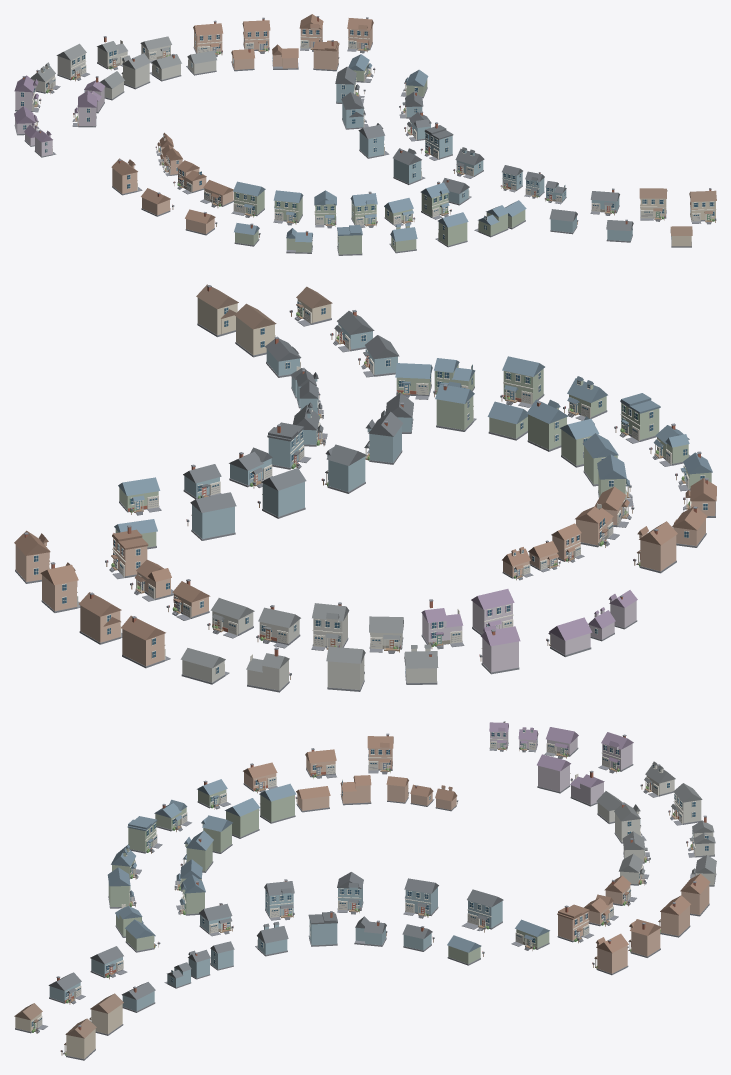
Rendered from willow-hills.glb.
3 renders of one model, top to bottom at view 1: azimuth 30°, elevation 25°; view 2: azimuth 150°, elevation 25°; view 3: azimuth 270°, elevation 25°, orthographic. The views are drawn at different scales.
Parts seen in each view (by area): view 1: suburban_44_double_garage.002, suburban_42_side_garage_two.002, suburban_65_garage_colonial.003, suburban_14_double_garage.001, suburban_23_suburban_farmhouse.001, suburban_34_center_colonial.002, suburban_35_garage_colonial.002, suburban_24_modern_suburban.001, suburban_12_side_garage_two.001, suburban_59_double_garage.003, suburban_38_suburban_farmhouse.002, suburban_53_suburban_farmhouse.003 (+46 smaller); view 2: suburban_29_double_garage.001, suburban_35_garage_colonial.002, suburban_59_double_garage.003, suburban_27_side_garage_two.001, suburban_57_side_garage_two.003, suburban_39_modern_suburban.002, suburban_34_center_colonial.002, suburban_79_center_colonial.002, suburban_49_center_colonial.003, suburban_12_side_garage_two.001, suburban_25_front_gable.001, suburban_65_garage_colonial.003 (+47 smaller); view 3: suburban_29_double_garage.001, suburban_44_double_garage.002, suburban_27_side_garage_two.001, suburban_53_suburban_farmhouse.003, suburban_79_center_colonial.002, suburban_23_suburban_farmhouse.001, suburban_80_garage_colonial.002, suburban_54_modern_suburban.003, suburban_12_side_garage_two.001, suburban_65_garage_colonial.003, suburban_14_double_garage.001, suburban_55_front_gable.003 (+43 smaller).
Boxes of the visible parts, bbox=[...] form: suburban_44_double_garage.002: bbox=[231, 181, 265, 217]; suburban_42_side_garage_two.002: bbox=[273, 190, 303, 225]; suburban_65_garage_colonial.003: bbox=[56, 43, 89, 81]; suburban_14_double_garage.001: bbox=[639, 188, 667, 221]; suburban_23_suburban_farmhouse.001: bbox=[393, 148, 425, 184]; suburban_34_center_colonial.002: bbox=[420, 181, 451, 219]; suburban_35_garage_colonial.002: bbox=[435, 212, 468, 247]; suburban_24_modern_suburban.001: bbox=[420, 122, 453, 160]; suburban_12_side_garage_two.001: bbox=[689, 188, 716, 224]; suburban_59_double_garage.003: bbox=[193, 20, 223, 56]; suburban_38_suburban_farmhouse.002: bbox=[350, 191, 377, 227]; suburban_53_suburban_farmhouse.003: bbox=[347, 17, 373, 53]; suburban_29_double_garage.001: bbox=[186, 492, 236, 540]; suburban_35_garage_colonial.002: bbox=[500, 356, 544, 407]; suburban_59_double_garage.003: bbox=[121, 615, 170, 668]; suburban_27_side_garage_two.001: bbox=[257, 468, 306, 518]; suburban_57_side_garage_two.003: bbox=[78, 592, 122, 644]; suburban_39_modern_suburban.002: bbox=[614, 393, 660, 443]; suburban_34_center_colonial.002: bbox=[435, 381, 476, 431]; suburban_79_center_colonial.002: bbox=[479, 625, 520, 674]; suburban_49_center_colonial.003: bbox=[633, 521, 677, 573]; suburban_12_side_garage_two.001: bbox=[196, 284, 238, 337]; suburban_25_front_gable.001: bbox=[321, 444, 366, 493]; suburban_65_garage_colonial.003: bbox=[326, 646, 365, 691]; suburban_29_double_garage.001: bbox=[462, 889, 503, 932]; suburban_44_double_garage.002: bbox=[259, 783, 296, 823]; suburban_27_side_garage_two.001: bbox=[403, 878, 438, 918]; suburban_53_suburban_farmhouse.003: bbox=[592, 933, 628, 975]; suburban_79_center_colonial.002: bbox=[598, 732, 633, 773]; suburban_23_suburban_farmhouse.001: bbox=[264, 879, 294, 920]; suburban_80_garage_colonial.002: bbox=[537, 754, 572, 793]; suburban_54_modern_suburban.003: bbox=[557, 904, 593, 943]; suburban_12_side_garage_two.001: bbox=[60, 1018, 96, 1060]; suburban_65_garage_colonial.003: bbox=[668, 783, 702, 825]; suburban_14_double_garage.001: bbox=[89, 993, 123, 1035]; suburban_55_front_gable.003: bbox=[627, 919, 661, 957].
Bounding box in the file's own units: 150 × 20.69 × 165.
